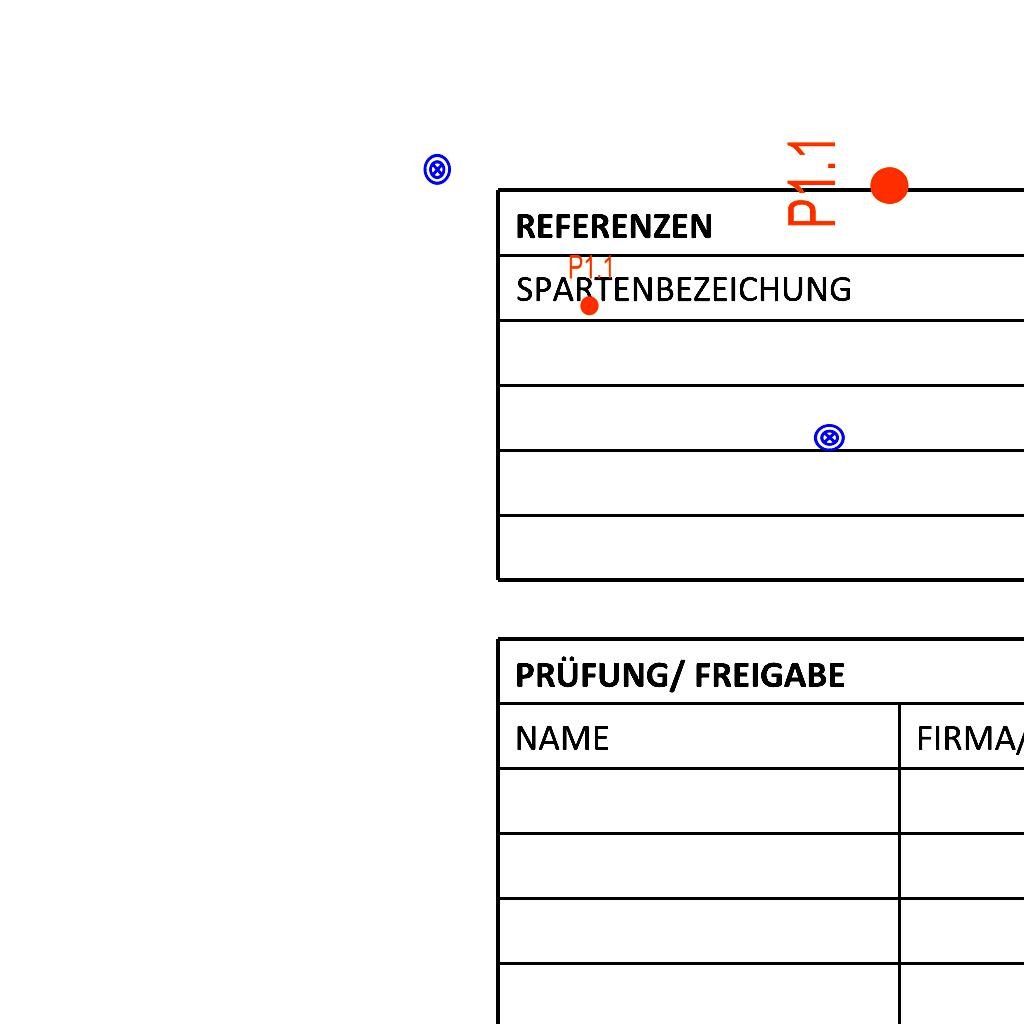Downlight_LED_Einbauleuchten_Flur: (784, 136, 912, 229), (568, 253, 614, 317)
Taster_beleuchtet: (421, 153, 454, 186), (813, 421, 846, 454)
